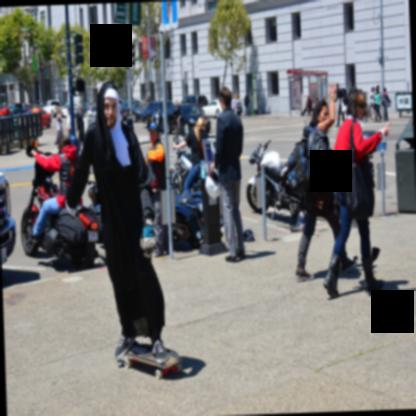backpack: (287, 133, 312, 196)
handbag: (343, 118, 375, 219), (307, 128, 339, 190), (236, 108, 243, 116), (57, 118, 61, 121)
